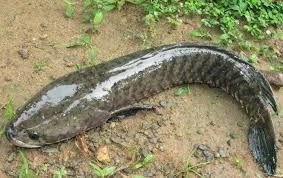Mudfish: (11, 42, 280, 173)
